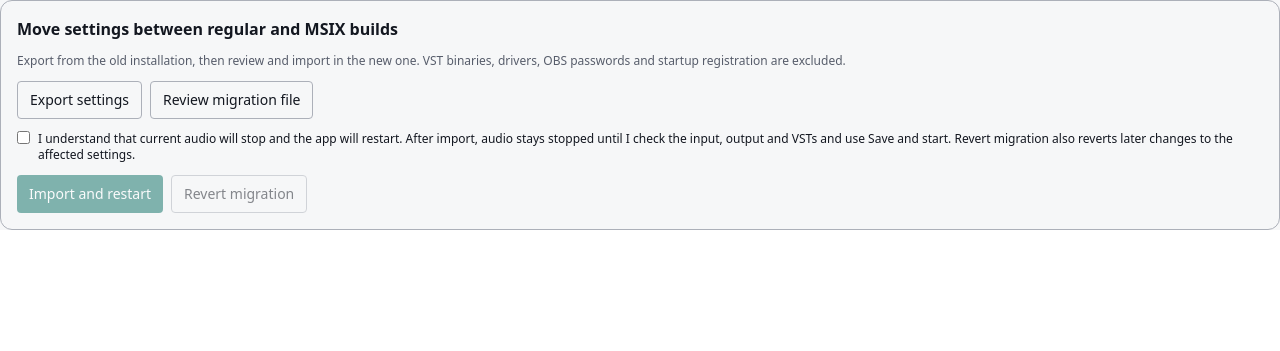
Test case: 移行の動的件数を英語で表示し、実ファイル名・VST名は保持する
What coordinates should you click on to do the following:
click the button "Review migration file"
I would click on:
 (232, 100)
Its box is [150,81,313,119].
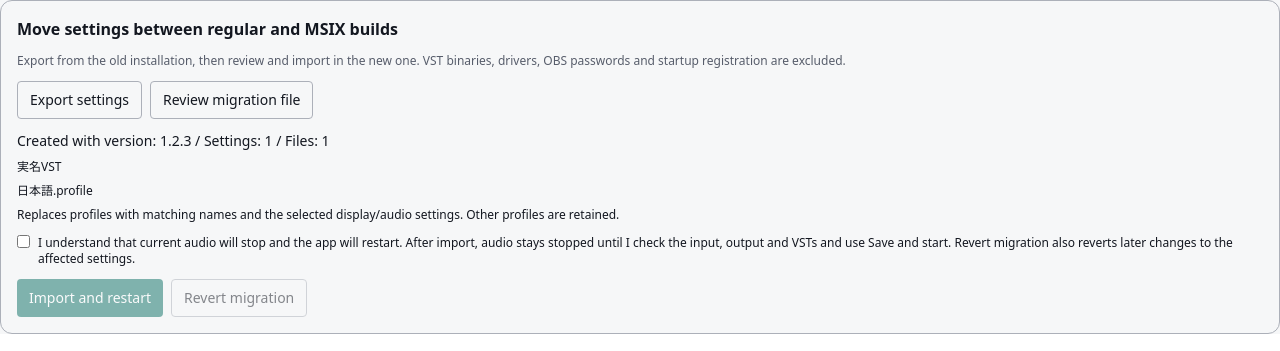
Expected: the text "Created with version: 1.2.3 / Settings: 1 / Files: 1" is shown, [17,131,330,150]
Expected: the list item "日本語.profile" is shown, [17,183,93,199]
Expected: the list item "実名VST" is shown, [17,159,62,175]
